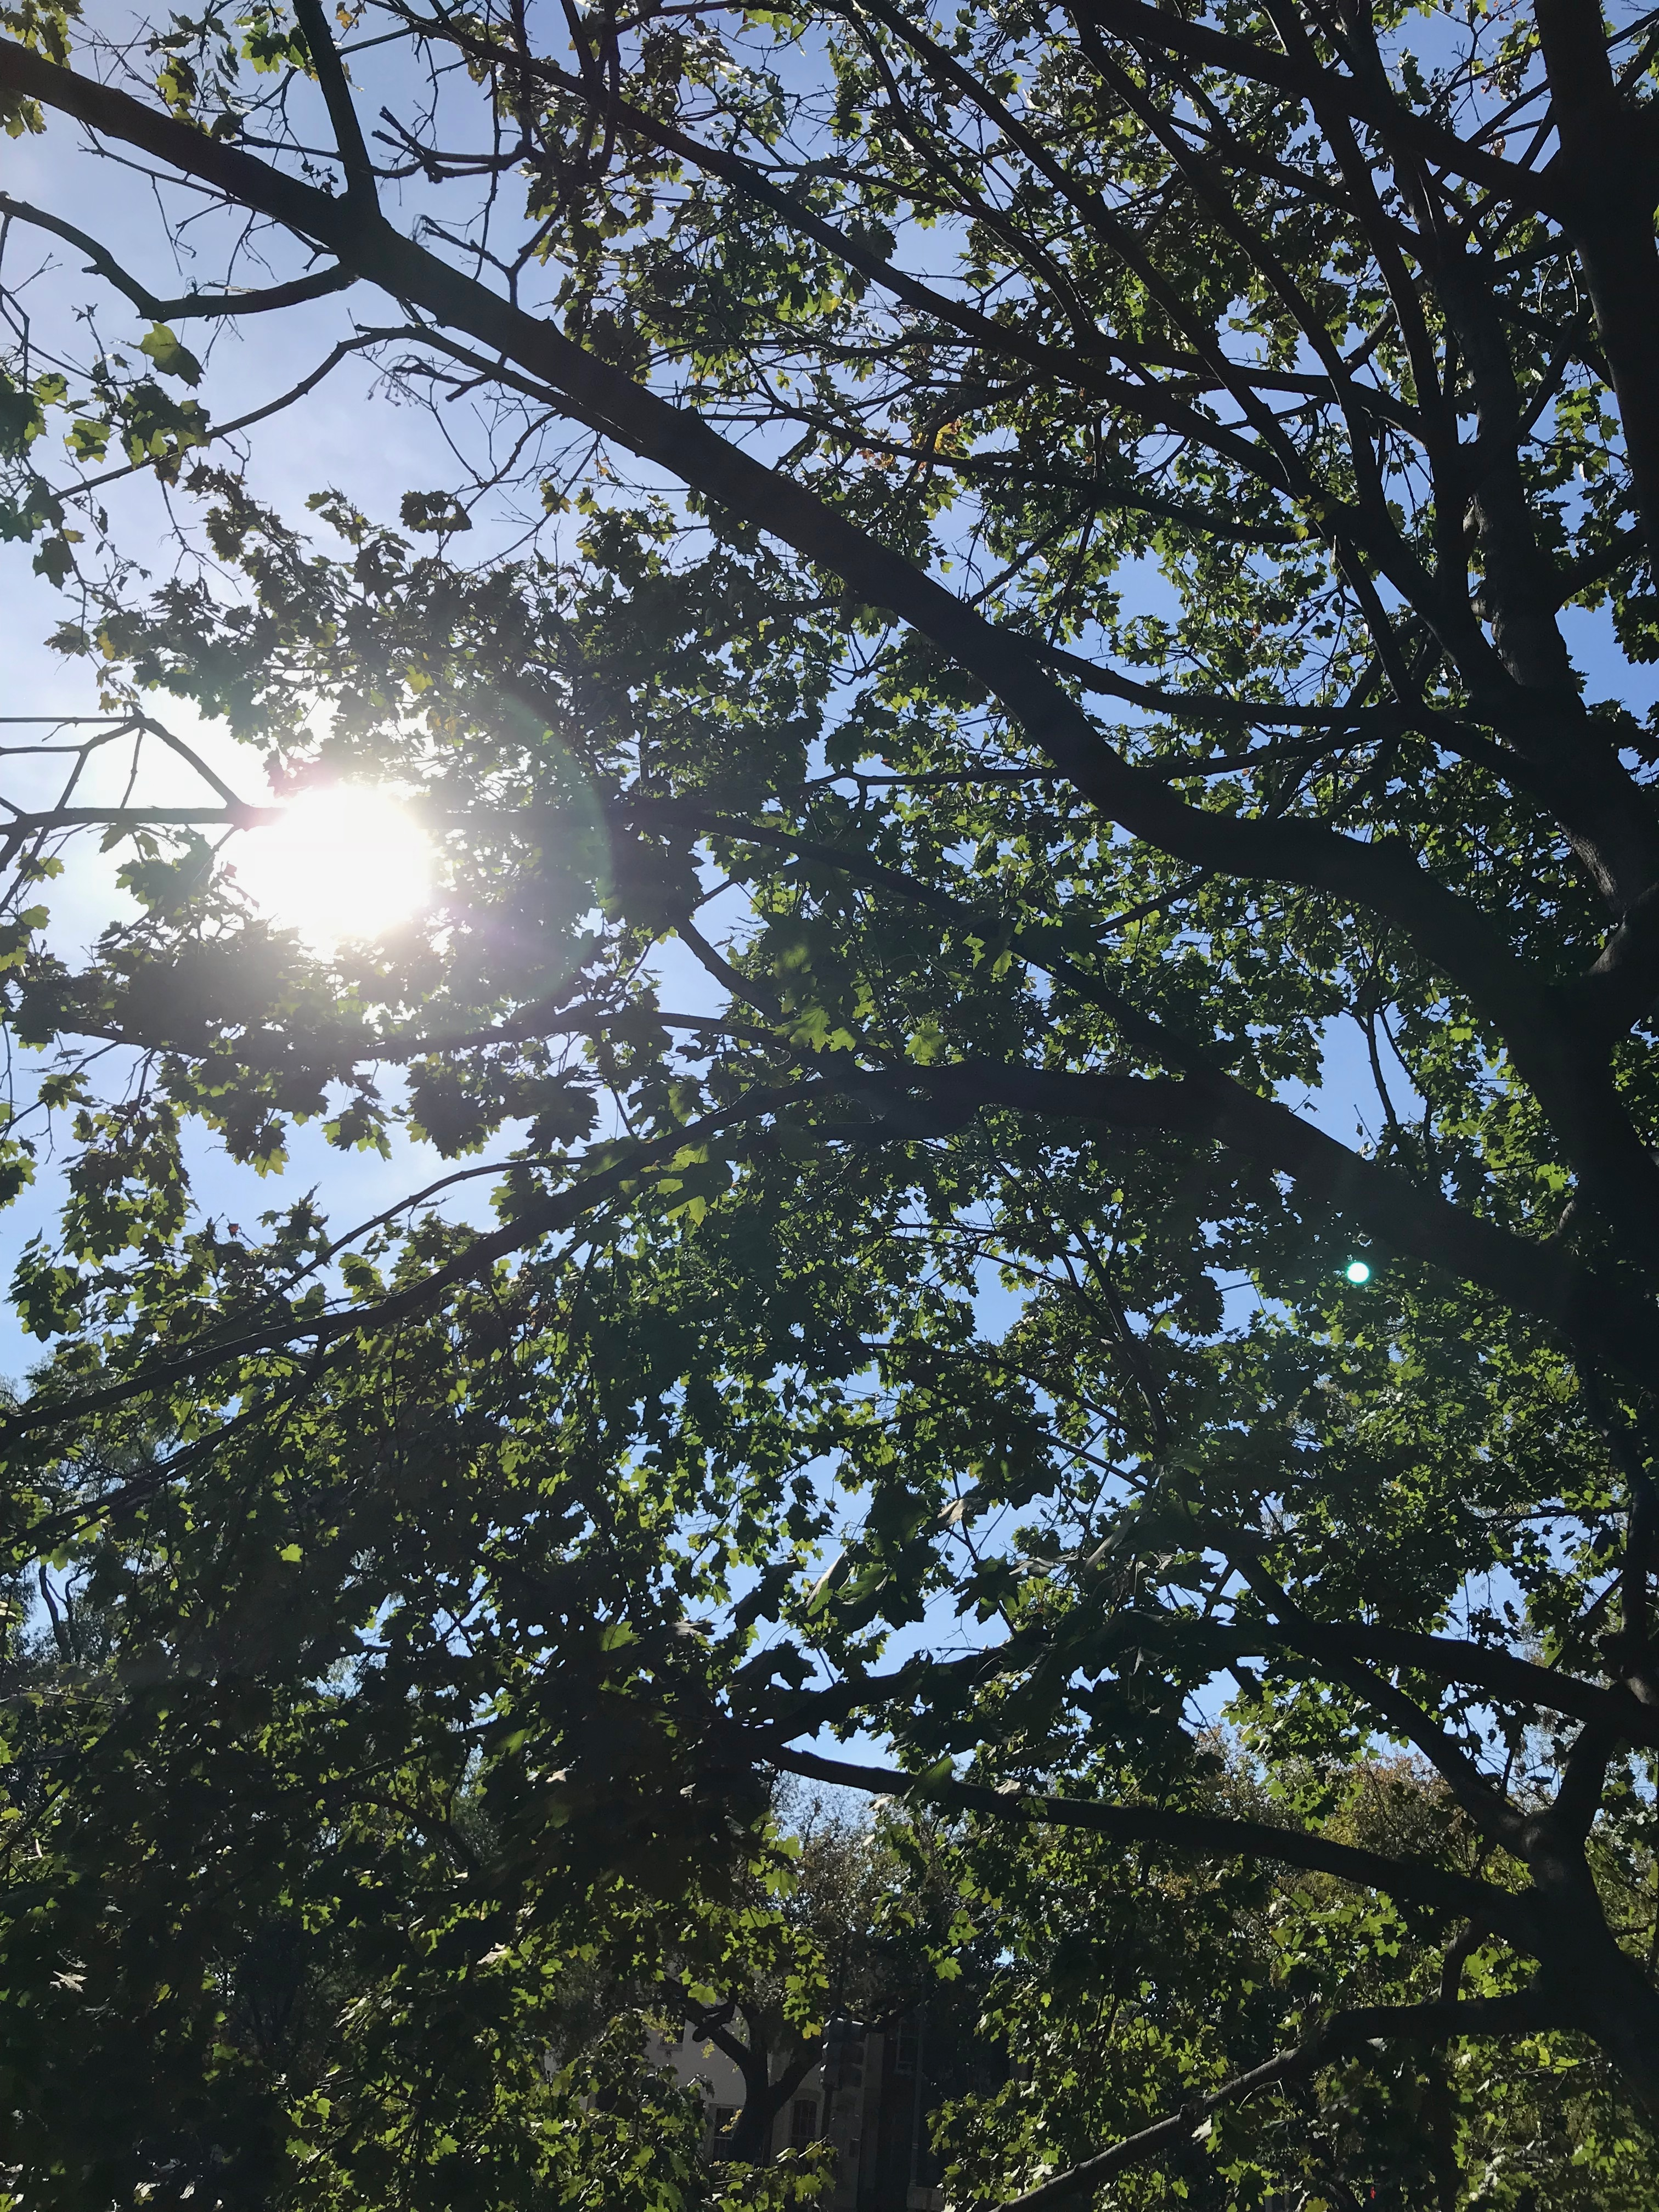flare: (1345, 1261, 1371, 1285)
